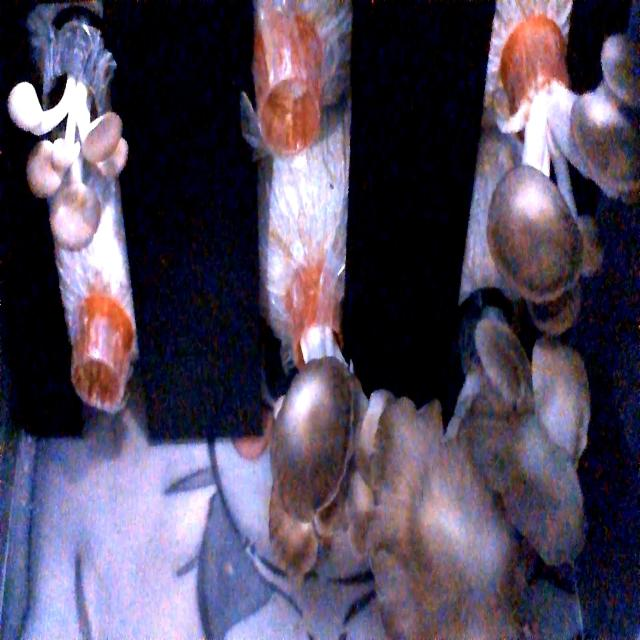big: (368, 320, 618, 640), (485, 9, 640, 329), (246, 342, 416, 610)
nfound: (61, 342, 145, 437), (253, 71, 332, 159)
small: (4, 70, 141, 239)
